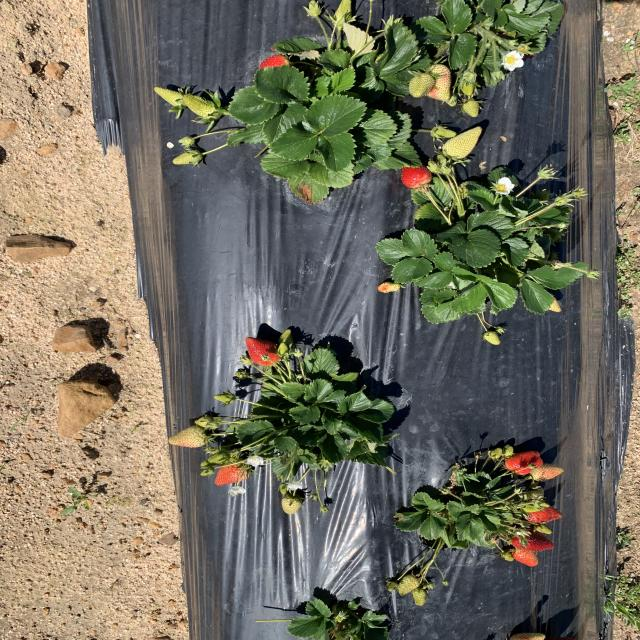unripe: (244, 337, 282, 366), (511, 528, 556, 552), (515, 503, 565, 524), (398, 160, 434, 189), (505, 448, 544, 474), (213, 460, 250, 485), (258, 54, 293, 73), (511, 546, 542, 566)
